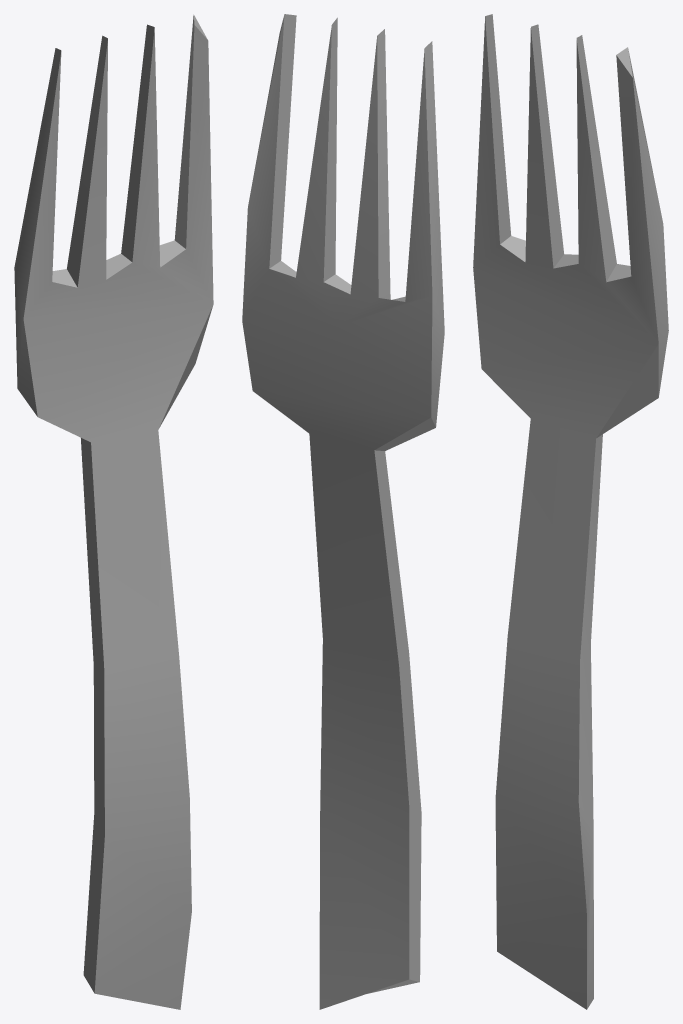
File: Fork.fbx
3 views of the same model, side by side, from view 1: azimuth 30°, elevation 25°; view 2: azimuth 150°, elevation 25°; view 3: azimuth 330°, elevation 25° (orthographic). The views are drawn at different scales.
Parts seen in each view (by area): view 1: 0.Fork; view 2: 0.Fork; view 3: 0.Fork.
Boxes of the visible parts, x1,y1,x2,y2 form: 0.Fork: (14, 14, 213, 1009); 0.Fork: (242, 14, 444, 1009); 0.Fork: (473, 14, 668, 1009).
Bounding box in the file's own units: 34.09 × 169 × 12.58.
